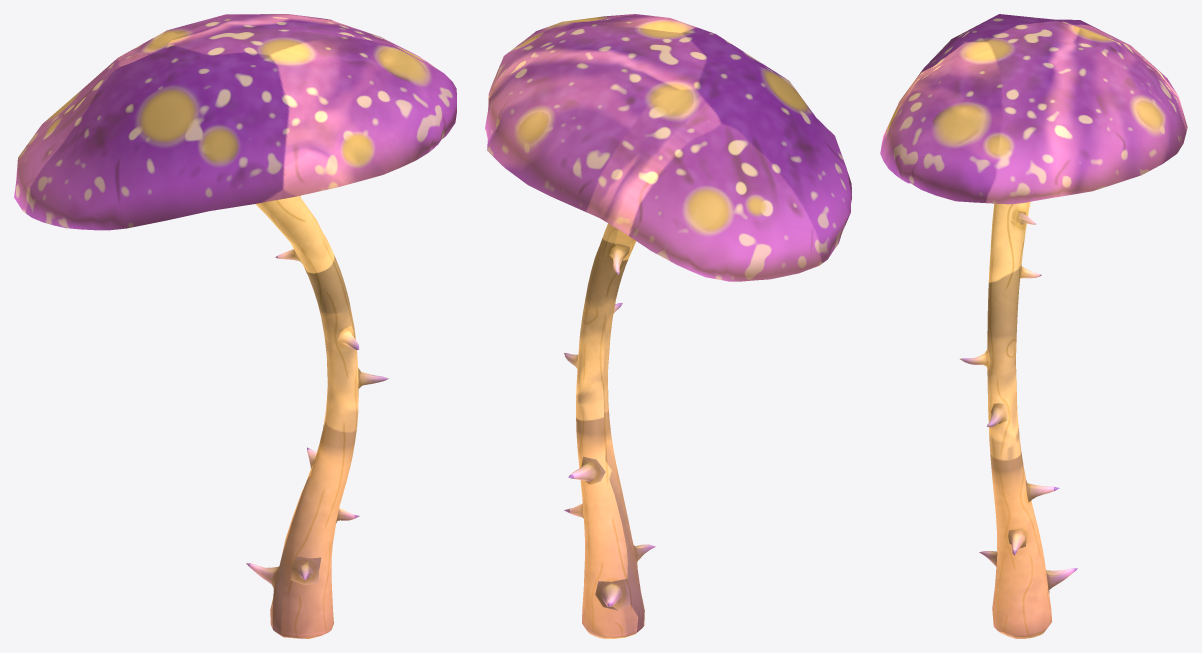
The model's file is SM_Stylized_Big_Mushroom_04.fbx.
3 views of the same model, side by side, from view 1: azimuth 30°, elevation 25°; view 2: azimuth 150°, elevation 25°; view 3: azimuth 270°, elevation 25° (orthographic). The views are drawn at different scales.
Parts seen in each view (by area): view 1: SM_Stylized_Big_Mushroom_04_LOD0; view 2: SM_Stylized_Big_Mushroom_04_LOD0; view 3: SM_Stylized_Big_Mushroom_04_LOD0.
Part boxes in pixels (x1,y1,x2,y2): SM_Stylized_Big_Mushroom_04_LOD0: (14,14,456,638); SM_Stylized_Big_Mushroom_04_LOD0: (485,14,851,638); SM_Stylized_Big_Mushroom_04_LOD0: (880,14,1187,638).
Bounding box in the file's own units: 278 × 214 × 435.
